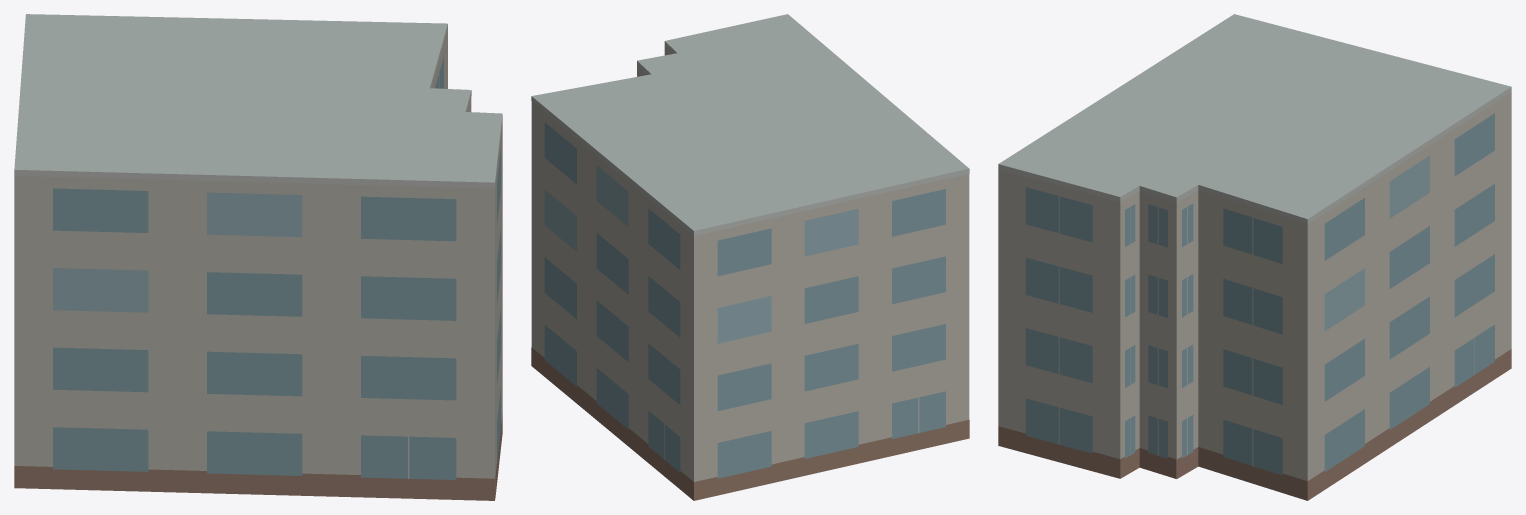
Rendered from survey-upis-32847232.glb.
3 views of the same model, side by side, from view 1: azimuth 30°, elevation 25°; view 2: azimuth 150°, elevation 25°; view 3: azimuth 270°, elevation 25° (orthographic). The views are drawn at different scales.
Parts seen in each view (by area): view 1: survey-upis-32847232.tmp; view 2: survey-upis-32847232.tmp; view 3: survey-upis-32847232.tmp.
Boxes of the visible parts, x1,y1,x2,y2 form: survey-upis-32847232.tmp: (14, 14, 502, 500); survey-upis-32847232.tmp: (531, 14, 969, 500); survey-upis-32847232.tmp: (998, 14, 1511, 500).
Bounding box in the file's own units: 20.47 × 13.1 × 21.64.
